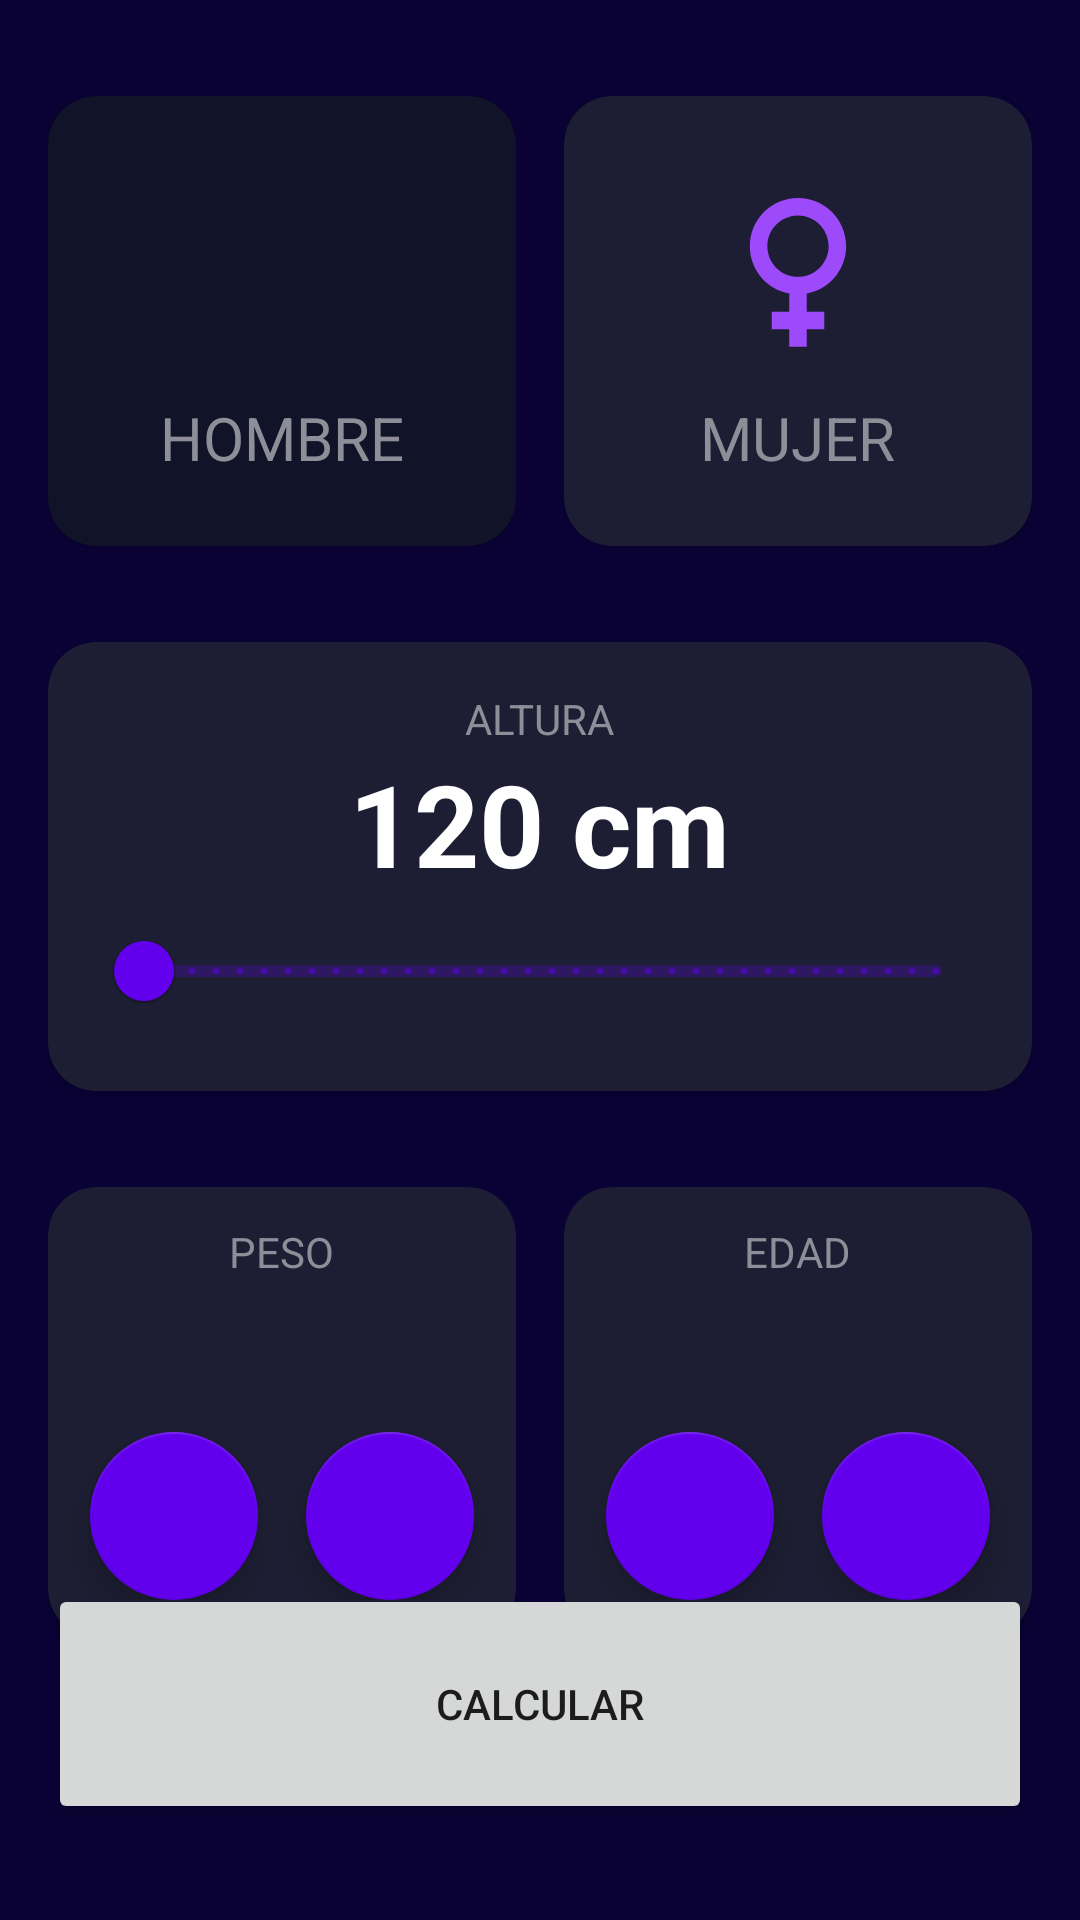

Named icons in this screenshot (1080px x 1920px) and their bounding boxes, (x1, y1, x2, y2):
female: (750, 198, 846, 347)
